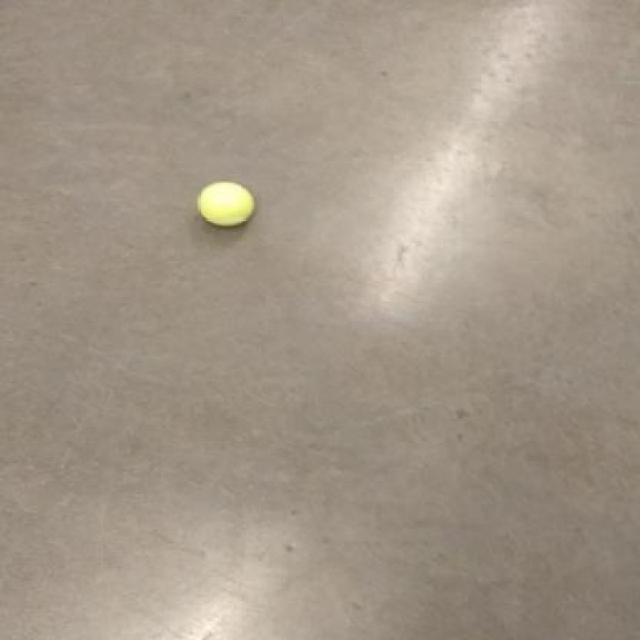Tennis_Ball: (198, 178, 254, 228)
